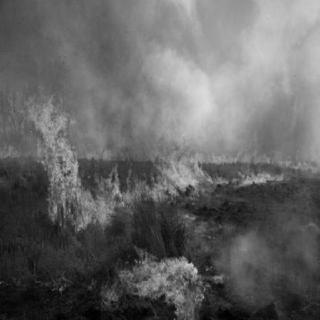Fire: (3, 81, 320, 231), (99, 245, 213, 318)
Smoke: (235, 43, 309, 154), (28, 4, 98, 82)
